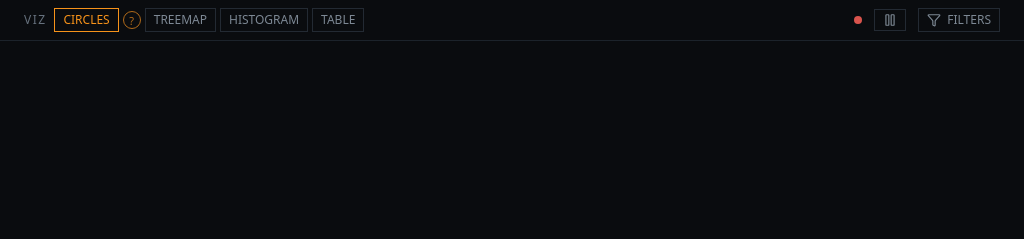
Test: ClusterControls › closes the filter popover on an outside click
Click the button named "Toggle filters".
click(959, 20)  # box [918,8,1000,32]
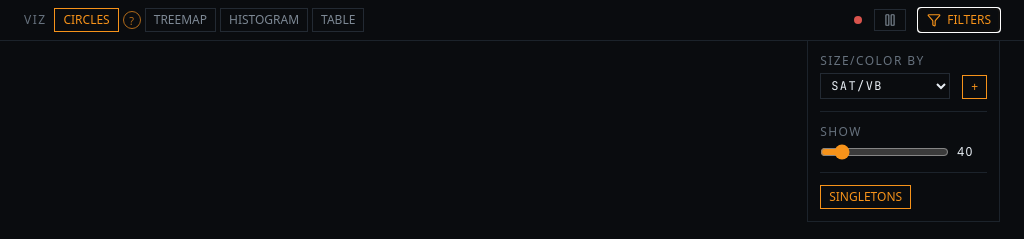
Expected: the text "SHOW" is shown, [820,123,862,140]
Click the element that starts with "VIZ".
click(512, 20)  # box [0,0,1023,41]
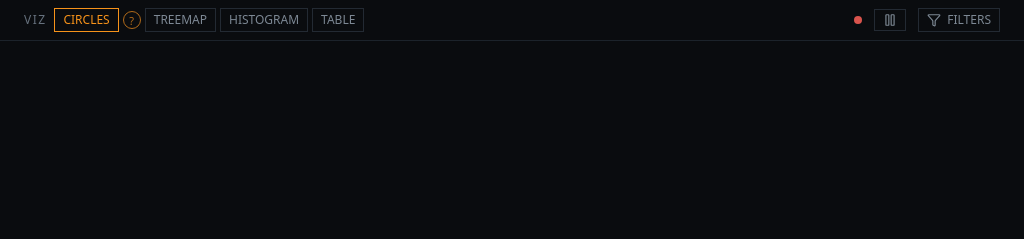
Expected: the text "SHOW" is gone
